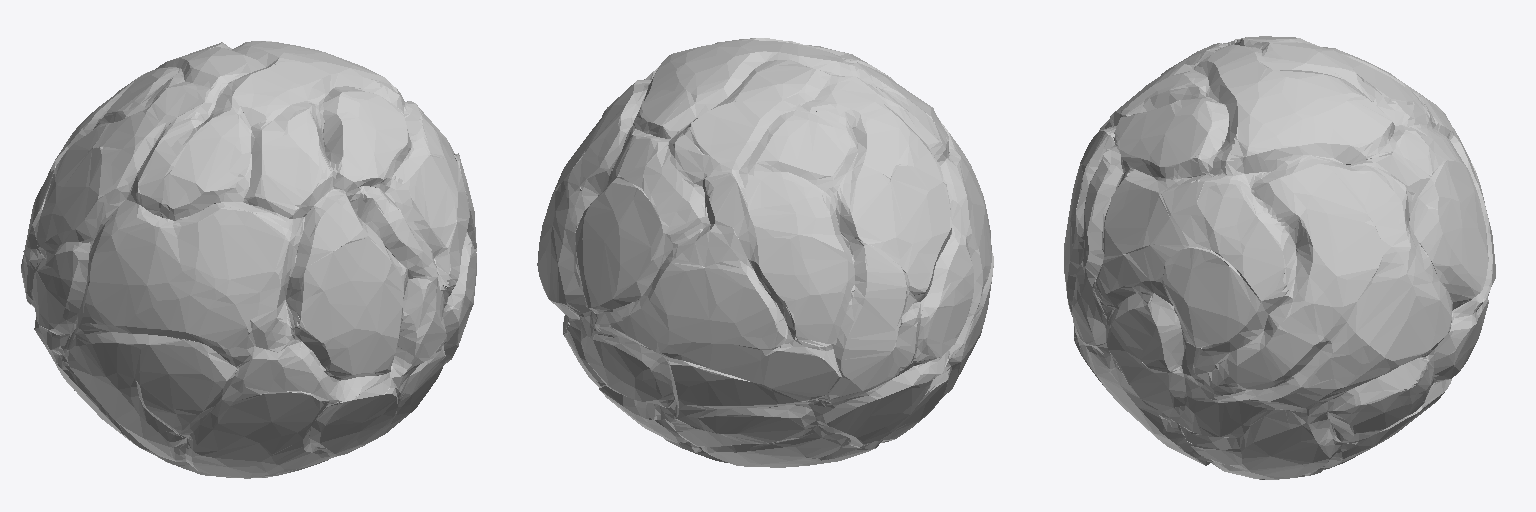
File: Spheroir_02.OBJ
3 renders of one model, left to right at view 1: azimuth 30°, elevation 25°; view 2: azimuth 150°, elevation 25°; view 3: azimuth 270°, elevation 25°, orthographic.
Parts seen in each view (by area): view 1: Group35199; view 2: Group35199; view 3: Group35199.
Boxes of the visible parts, x1,y1,x2,y2 form: Group35199: [21, 41, 476, 478]; Group35199: [537, 38, 993, 467]; Group35199: [1064, 36, 1495, 479].
Size of the model in its own units: 2.02 by 1.91 by 1.92.